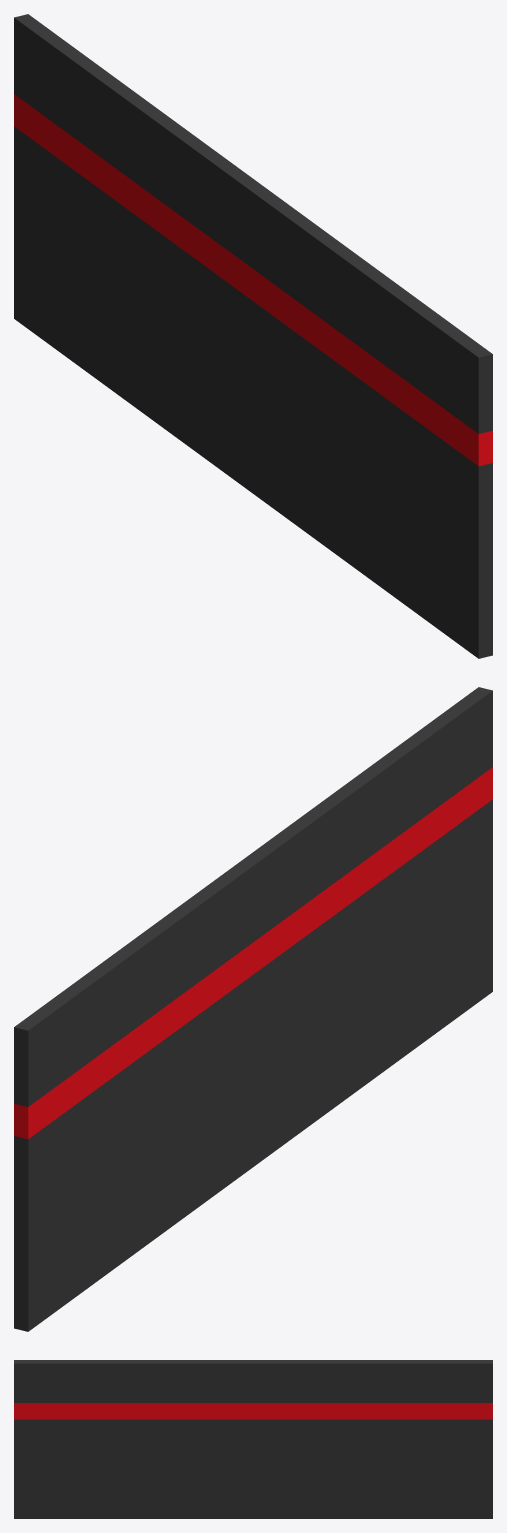
File: Pared.FBX
3 renders of one model, top to bottom at view 1: azimuth 30°, elevation 25°; view 2: azimuth 150°, elevation 25°; view 3: azimuth 270°, elevation 25°, orthographic. The views are drawn at different scales.
Parts seen in each view (by area): view 1: G_Pared; view 2: G_Pared; view 3: G_Pared.
Boxes of the visible parts, x1,y1,x2,y2 form: G_Pared: (14,14,492,658); G_Pared: (14,687,492,1331); G_Pared: (14,1360,492,1518).
Bounding box in the file's own units: 1.2 × 24.18 × 67.6.
